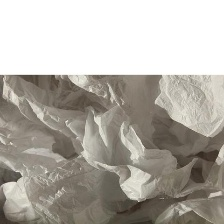tissue: (0, 74, 224, 224), (149, 75, 223, 141)
